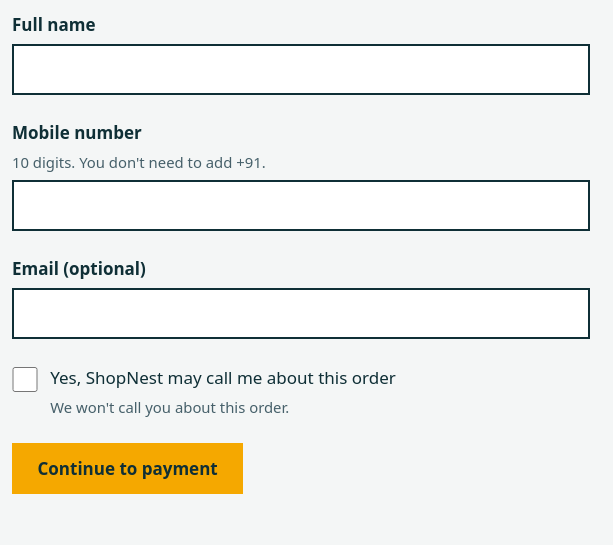
Test: CheckoutForm › rejects a mobile number that does not start with 6 to 9
The width and height of the screenshot is (613, 545).
Type "Rohan" into the field labelled "Full name" at [301, 69], box x1=12 y1=44 x2=590 y2=95
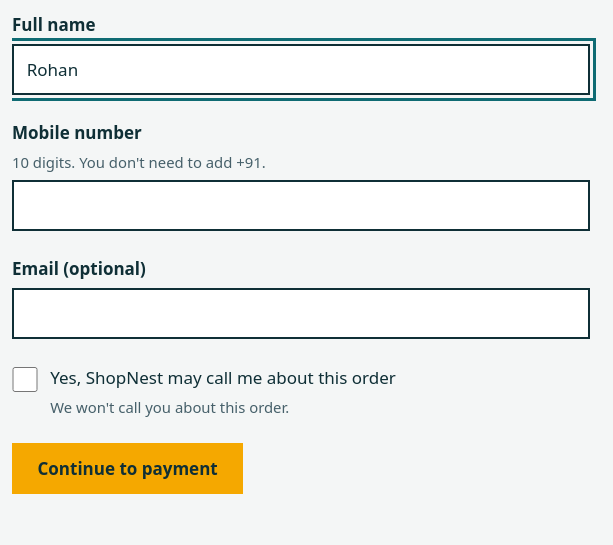
Type "5876543210" into the field labelled "Mobile number" at [301, 205], box x1=12 y1=180 x2=590 y2=231
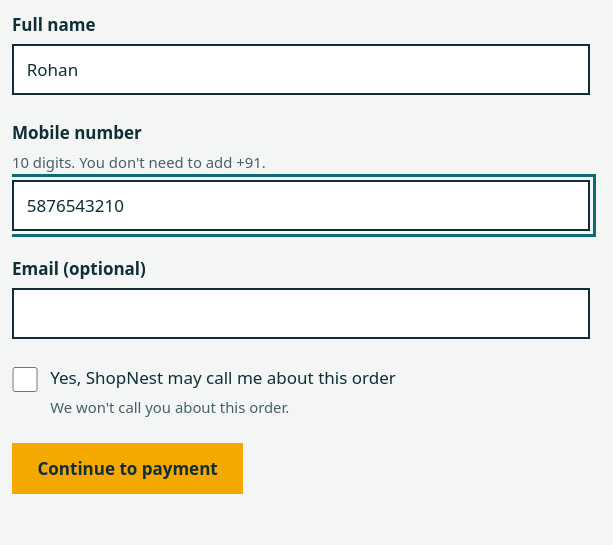
Click the button "Continue to payment" at [128, 469], box x1=12 y1=443 x2=243 y2=494
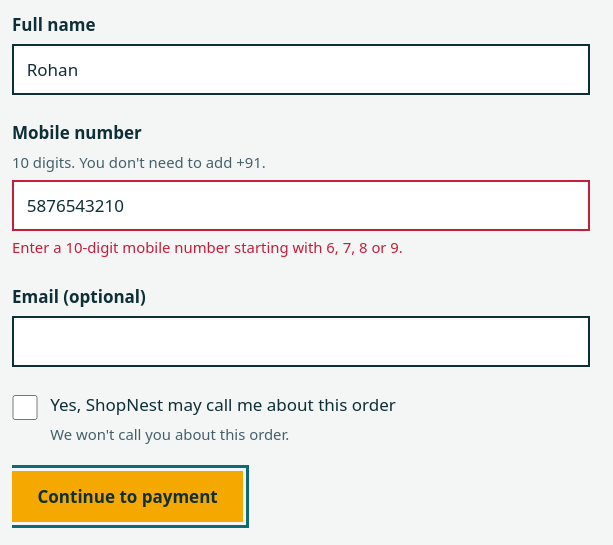
Now the text "Enter a 10-digit mobile number starting with 6, 7, 8 or 9." is shown, box x1=12 y1=237 x2=403 y2=257
